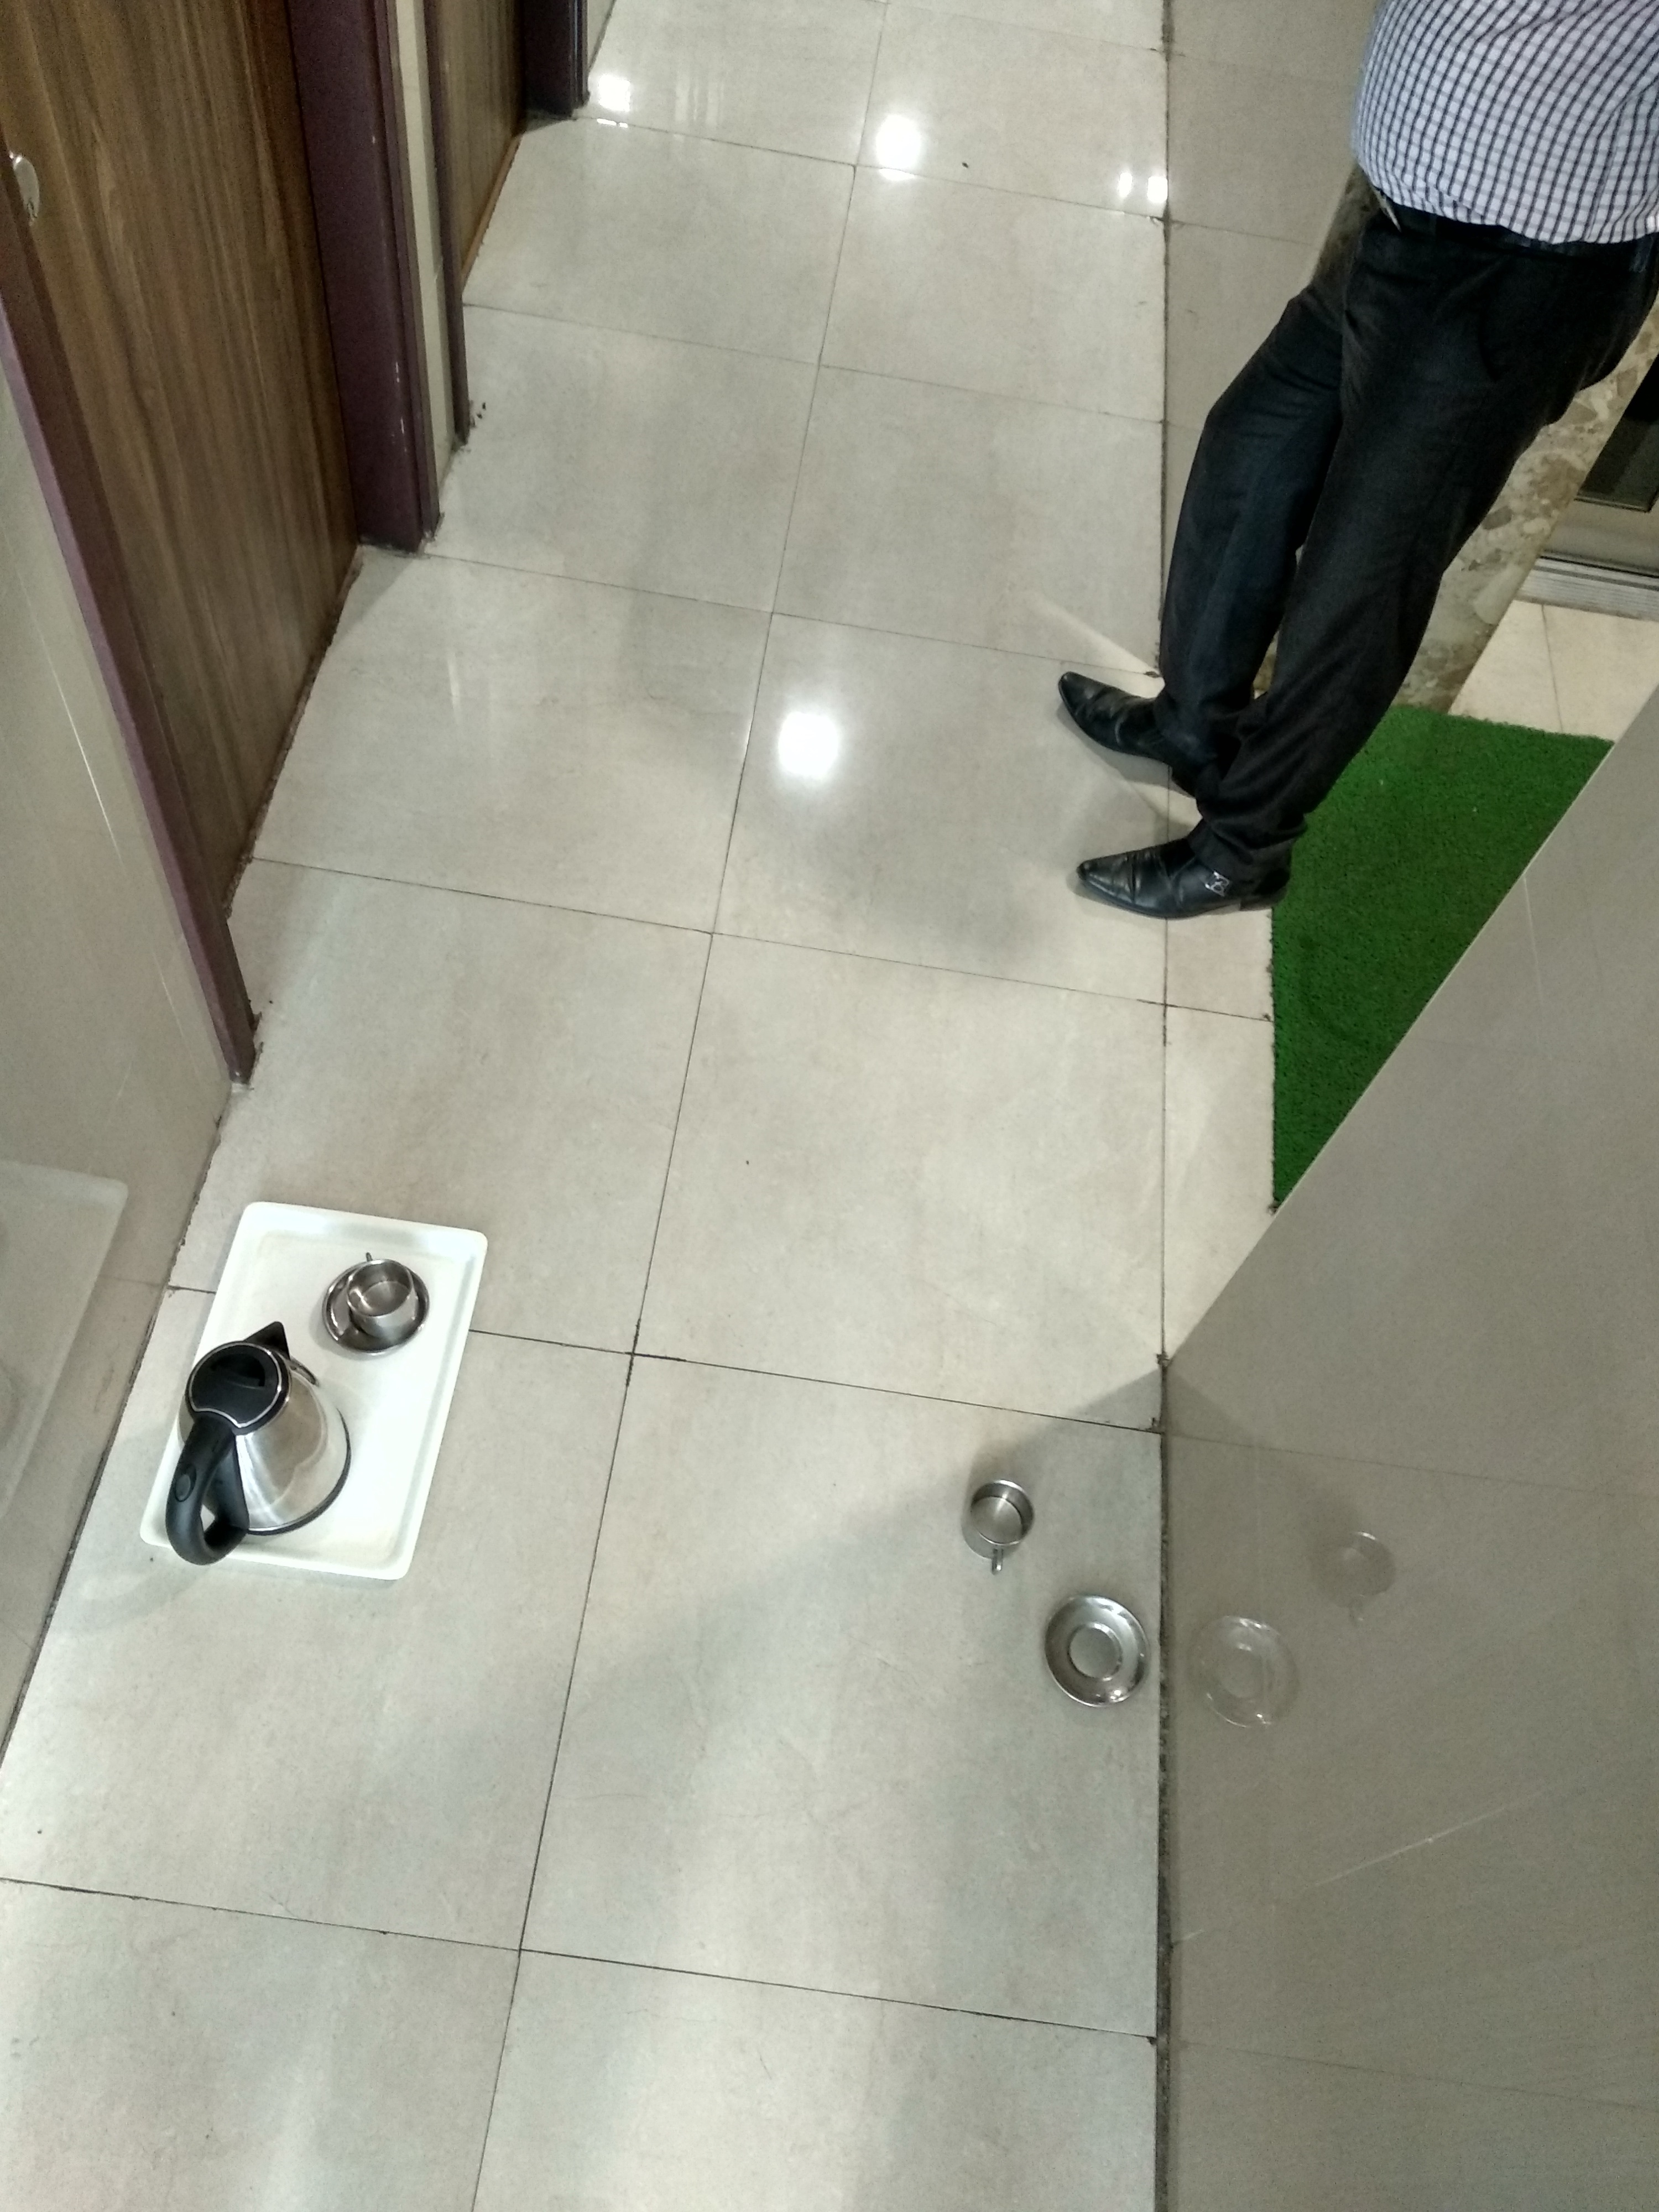CUP: (340, 1266, 413, 1343), (974, 1491, 1030, 1557)
FLASK: (190, 1332, 336, 1566)
